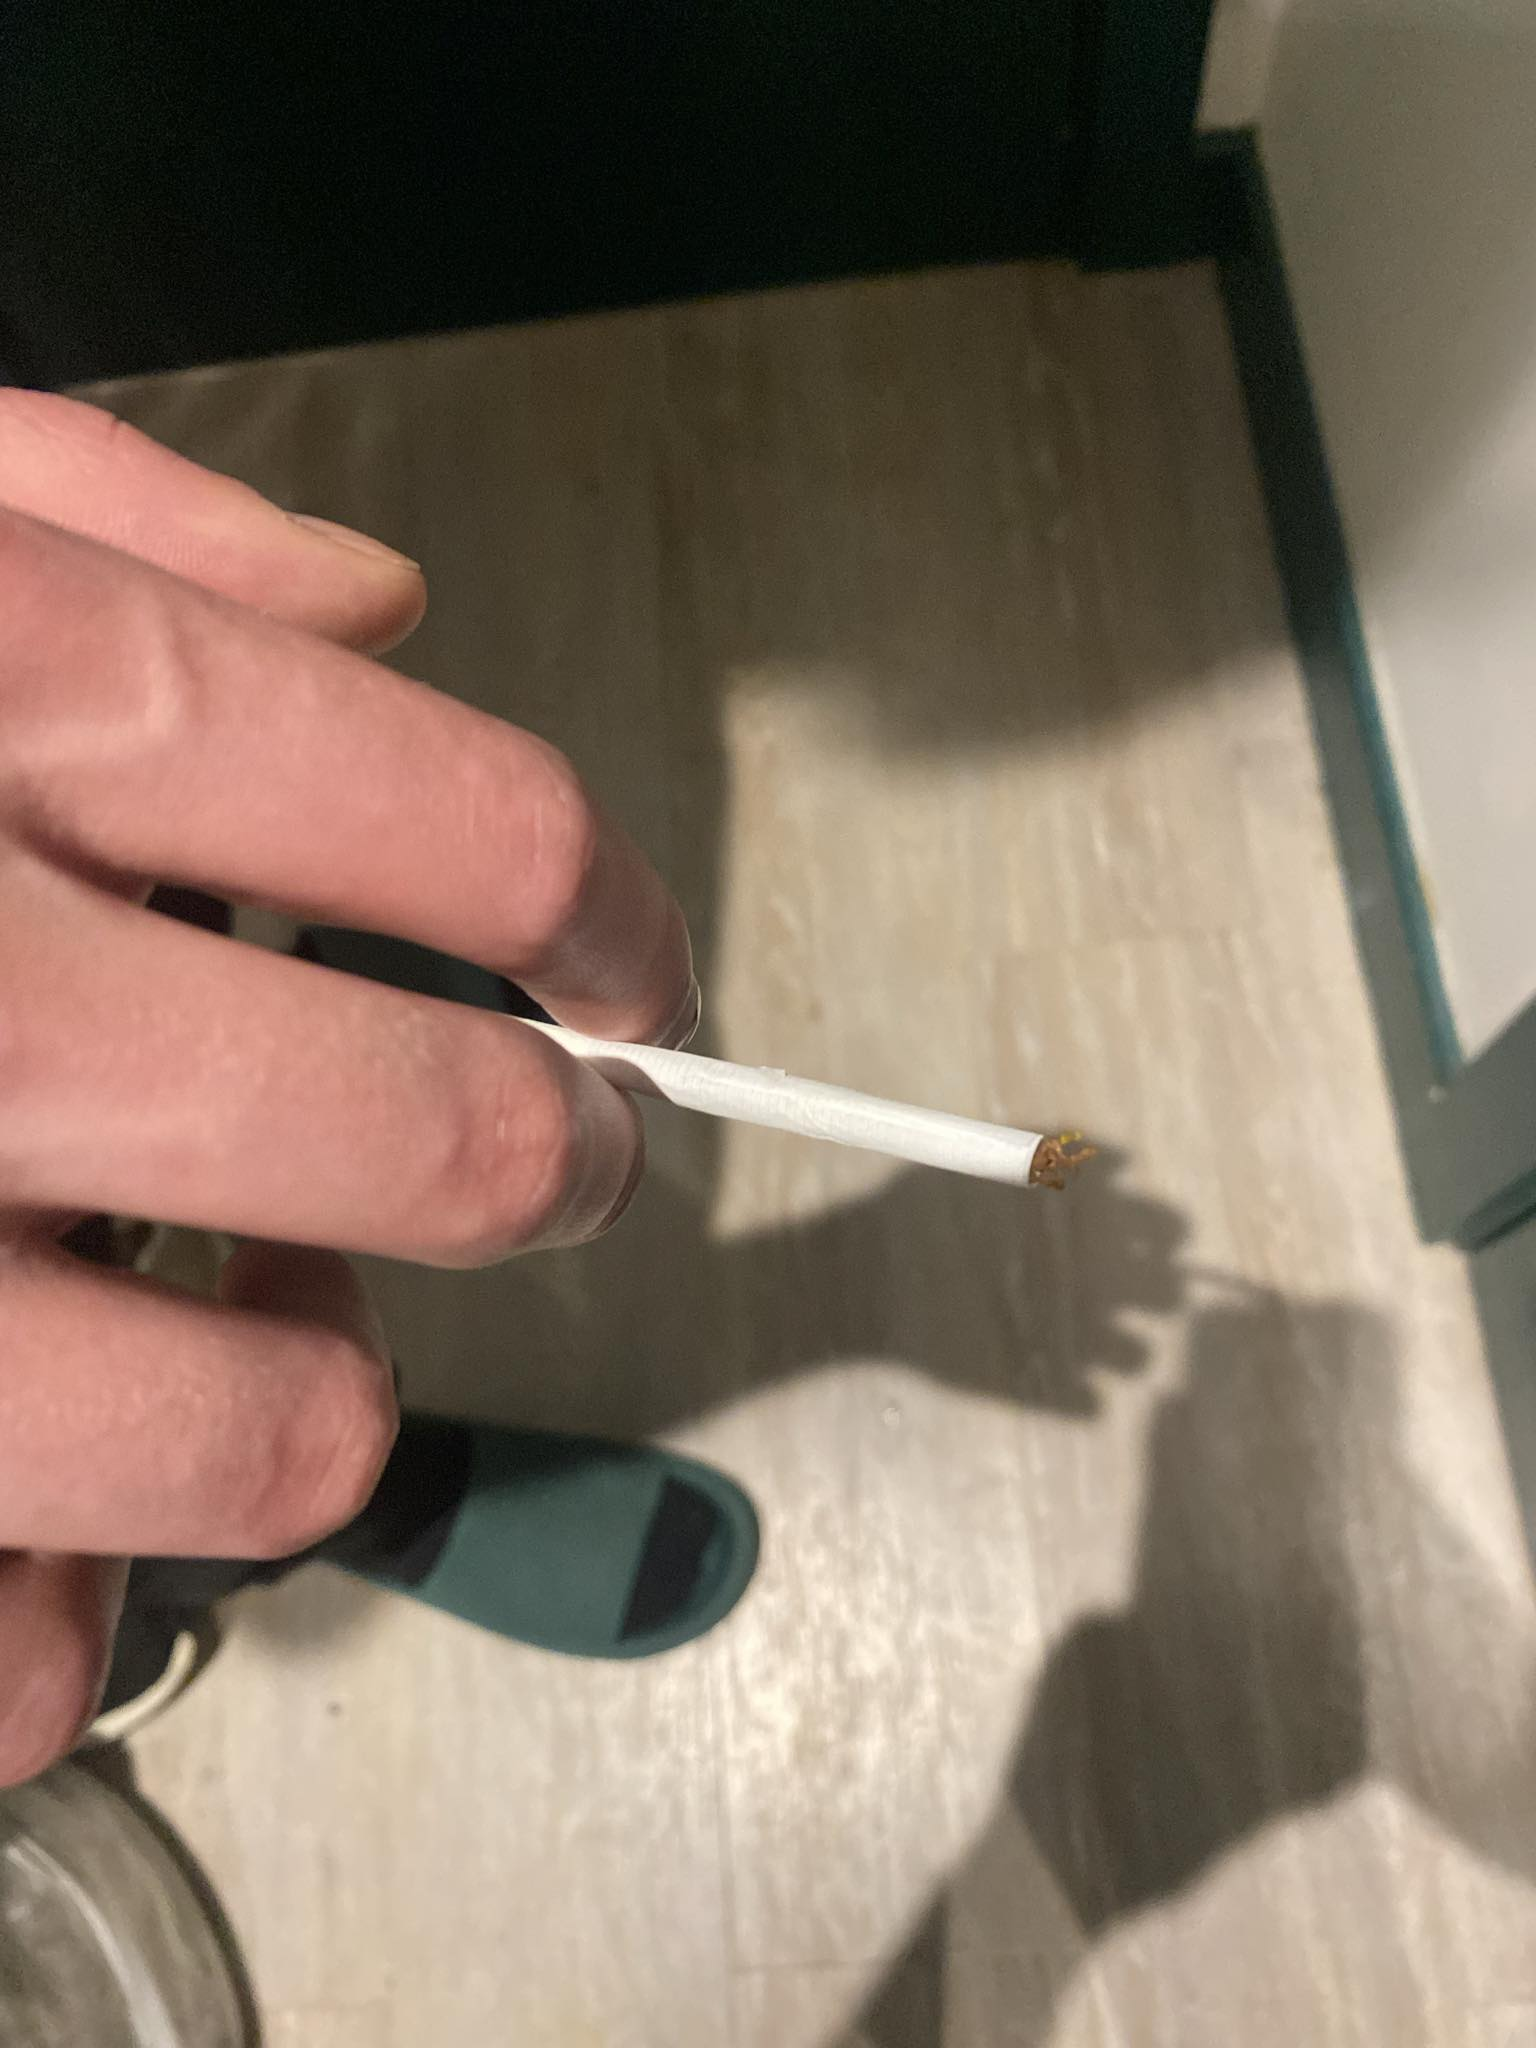Cigarette: (505, 1009, 1100, 1200)
